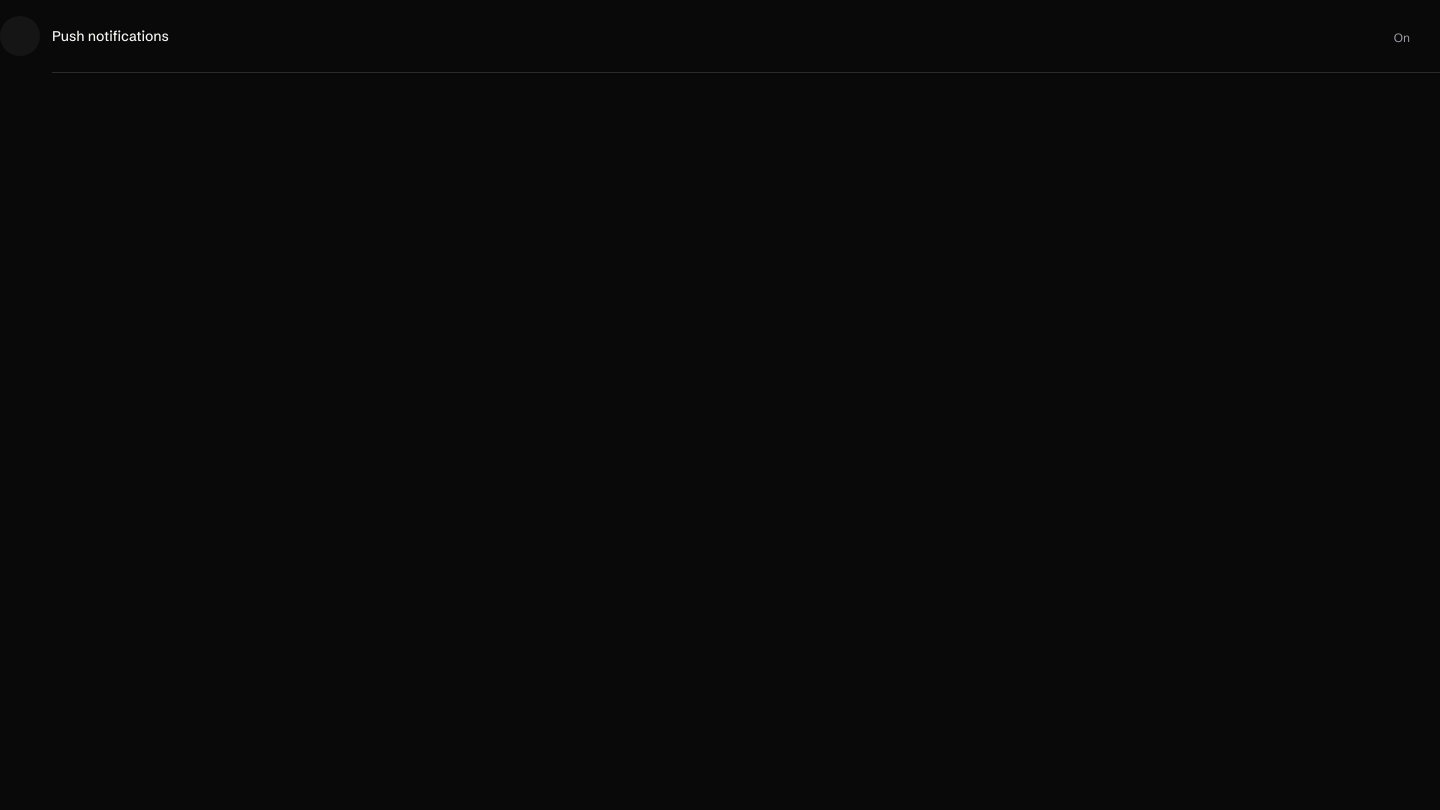
Test case: PushNotificationsRow › turning off forgets the endpoint and unsubscribes
Click the button "Push notifications On": (20, 36) [0,0,1439,72]
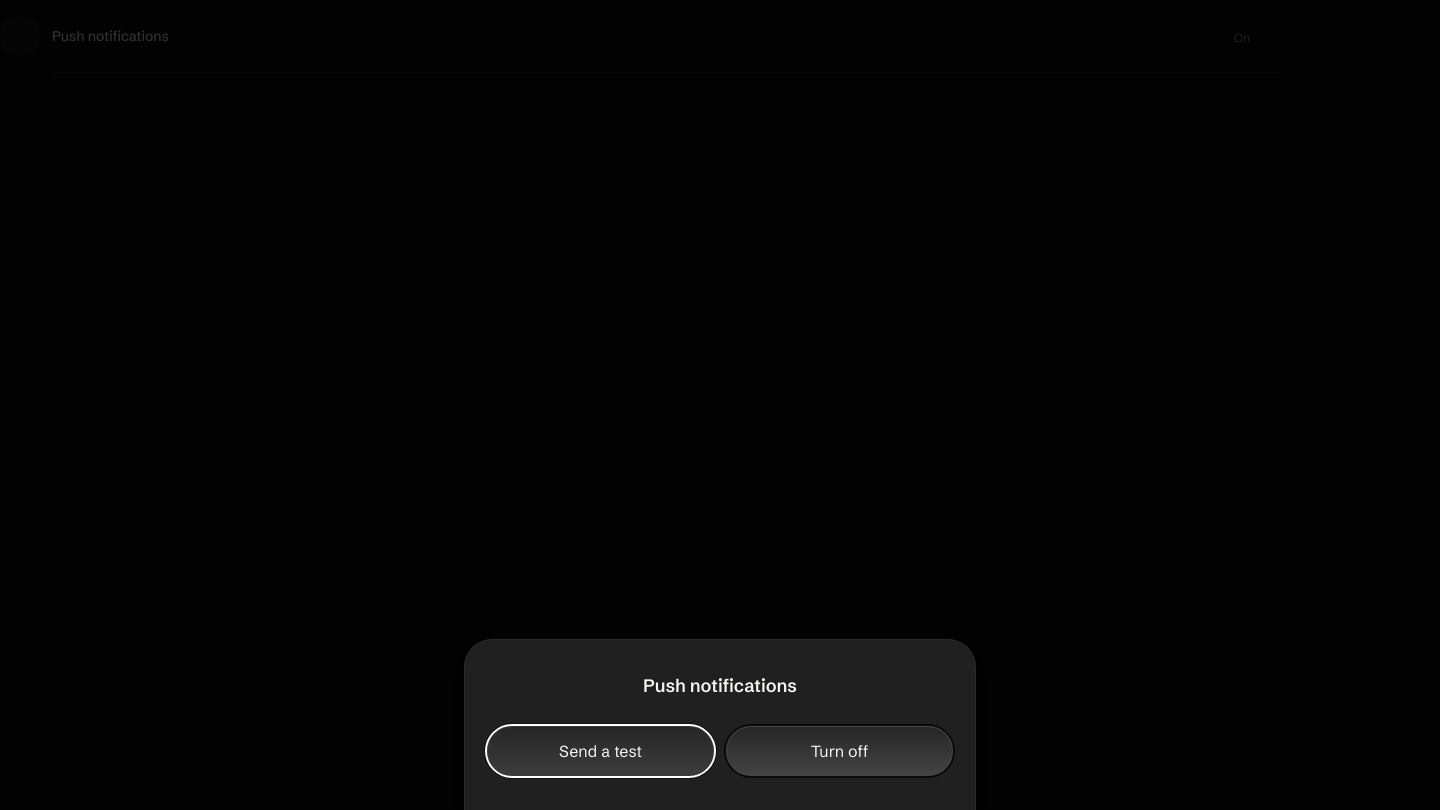
Click the button "Turn off": (840, 751) [724,724,955,778]
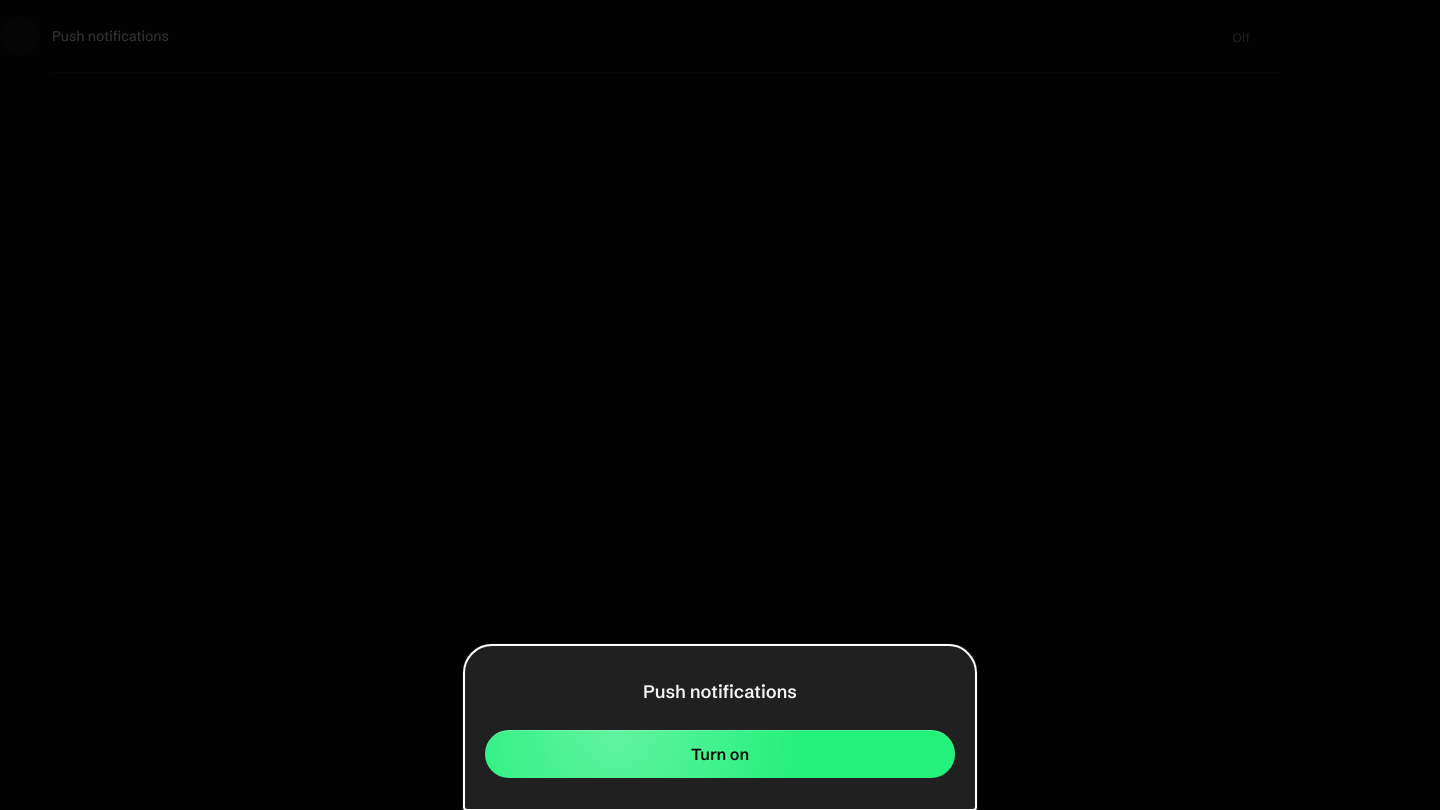
Expected: the button "Turn on" is shown, [485,730,955,778]
